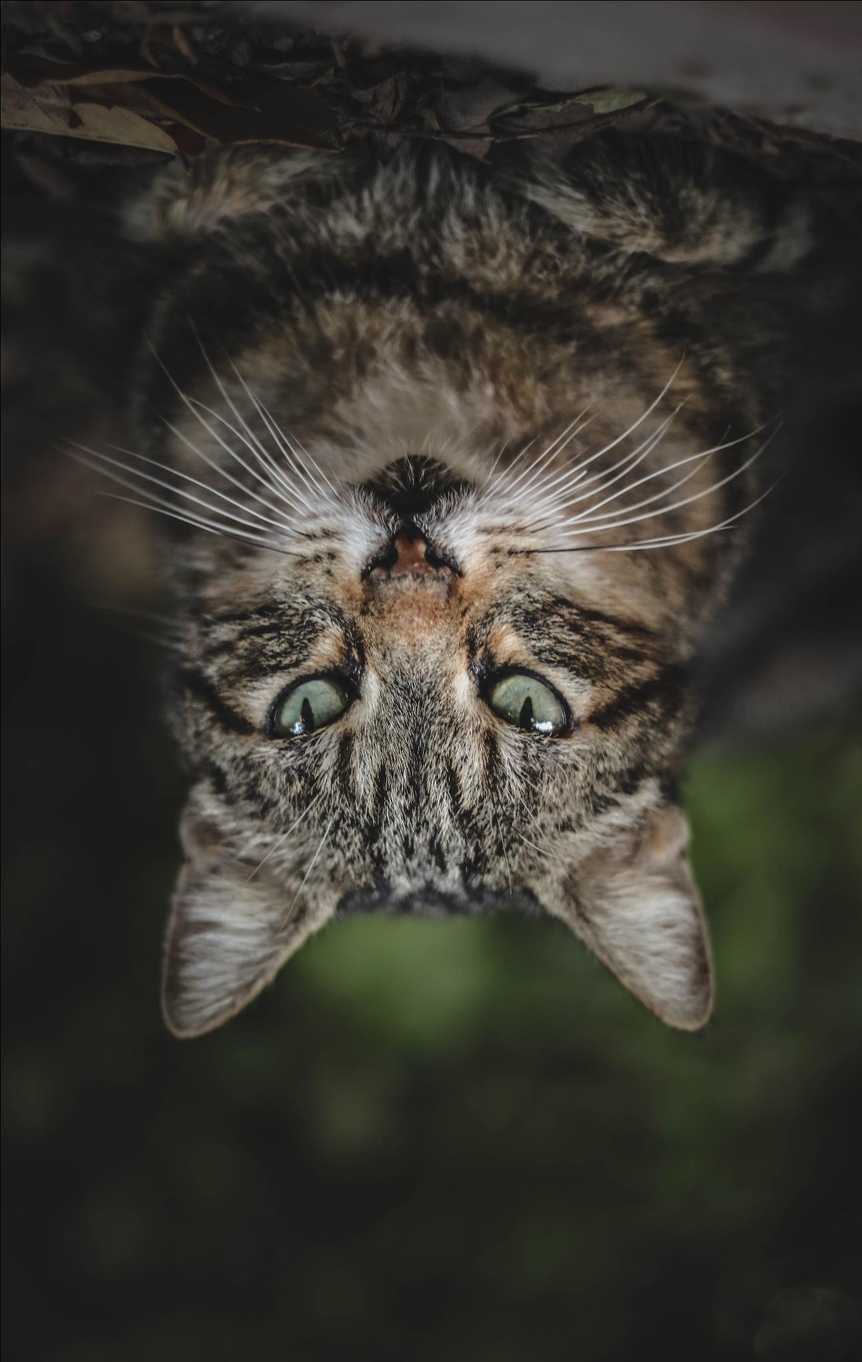cat: (54, 124, 830, 1042)
